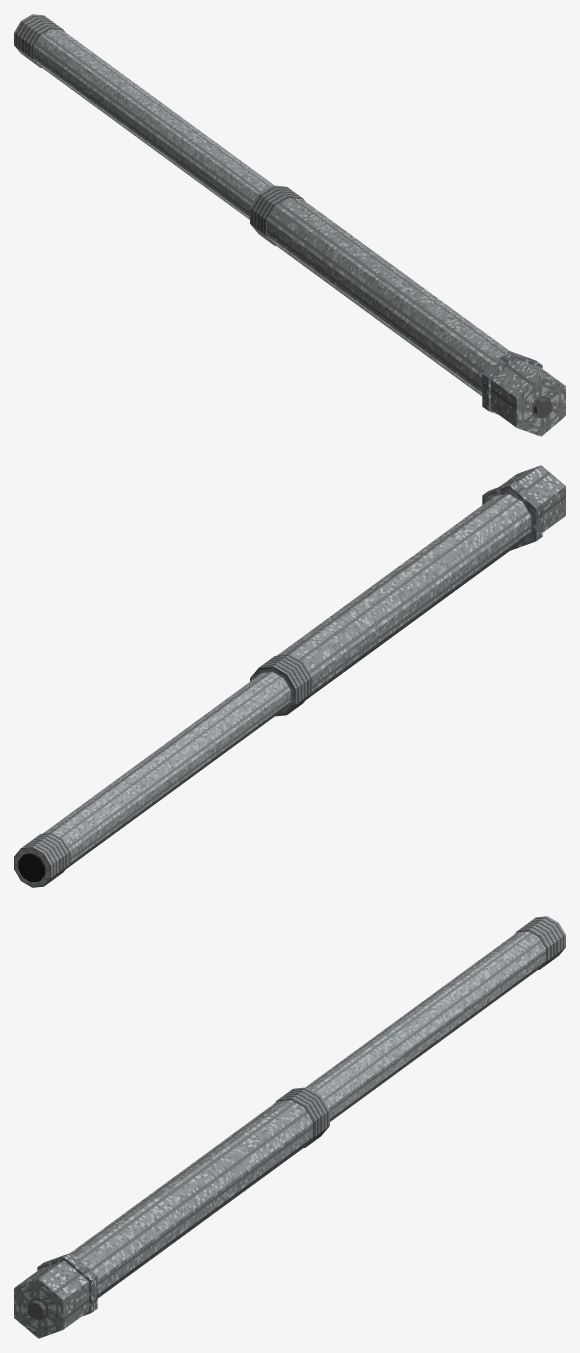
Rendered from slamfire_shotgun.glb.
The picture shows the model from 3 angles, top to bottom: view 1: azimuth 30°, elevation 25°; view 2: azimuth 150°, elevation 25°; view 3: azimuth 330°, elevation 25°; orthographic projection.
Visible parts, largest first — view 1: block_receiver, block_barrel, block_end cap, block_receiver thread, block_barrel thread, block_cap rim; view 2: block_receiver, block_barrel, block_end cap, block_receiver thread, block_barrel thread, block_cap rim, block_bore; view 3: block_receiver, block_barrel, block_end cap, block_receiver thread, block_barrel thread, block_cap rim.
Part boxes in pixels (left/top/right/bottom): block_receiver: left=267, top=198, right=509, bottom=396; block_barrel: left=34, top=29, right=274, bottom=219; block_end cap: left=491, top=358, right=565, bottom=436; block_receiver thread: left=250, top=185, right=304, bottom=245; block_barrel thread: left=14, top=14, right=64, bottom=67; block_cap rim: left=482, top=351, right=542, bottom=414; block_receiver: left=251, top=494, right=531, bottom=704; block_barrel: left=14, top=672, right=290, bottom=886; block_end cap: left=484, top=465, right=565, bottom=544; block_receiver thread: left=250, top=654, right=311, bottom=716; block_barrel thread: left=14, top=833, right=70, bottom=887; block_cap rim: left=482, top=481, right=542, bottom=550; block_bore: left=18, top=853, right=45, bottom=882; block_receiver: left=70, top=1100, right=312, bottom=1298; block_barrel: left=305, top=931, right=545, bottom=1121; block_end cap: left=14, top=1260, right=88, bottom=1338; block_receiver thread: left=275, top=1087, right=329, bottom=1147; block_barrel thread: left=515, top=916, right=565, bottom=969; block_cap rim: left=37, top=1253, right=97, bottom=1316.
Size of the model in its own units: 0.039 by 0.045 by 0.6406.
2 materials, 2 textured.
